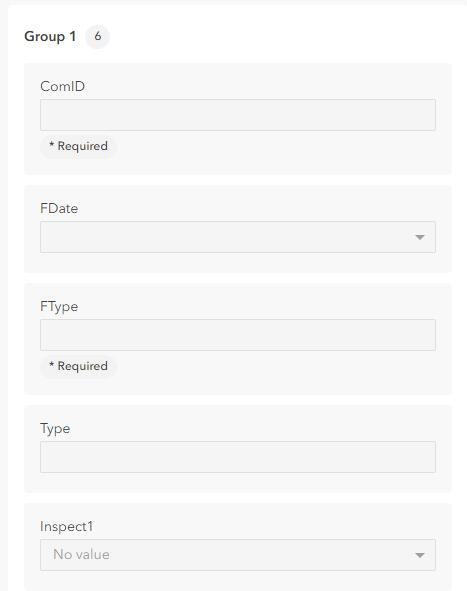dropdown: (39, 220, 440, 255), (41, 539, 438, 574)
input: (41, 98, 435, 134), (40, 318, 438, 353), (40, 440, 436, 474)
label: (23, 29, 86, 46), (40, 518, 97, 535), (41, 298, 81, 318), (38, 81, 92, 94), (38, 202, 80, 216), (42, 422, 75, 439)
